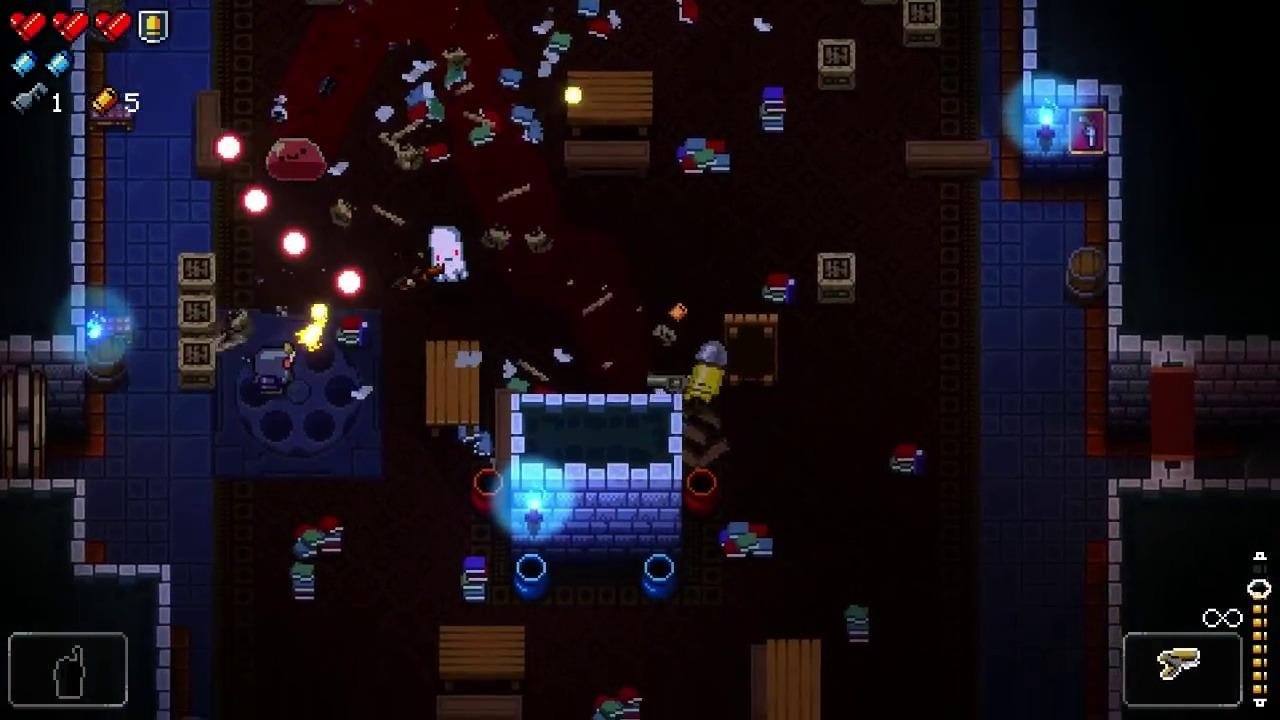blobulon_l: (265, 136, 326, 182)
blocked_door: (1151, 350, 1194, 481)
bullet: (335, 265, 365, 297), (242, 184, 270, 215), (280, 229, 310, 257), (214, 134, 242, 162)
bullet_kin: (685, 339, 727, 402)
hollowpoint: (428, 227, 469, 283)
locked_door: (0, 364, 44, 480)
player: (254, 349, 292, 394)
table: (568, 72, 654, 138), (438, 626, 526, 690), (425, 341, 480, 440), (769, 639, 820, 720), (726, 312, 776, 385)
teleporter: (216, 309, 382, 479)
